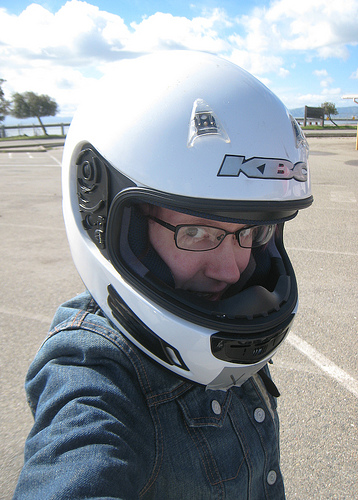helmet: (48, 51, 314, 381)
